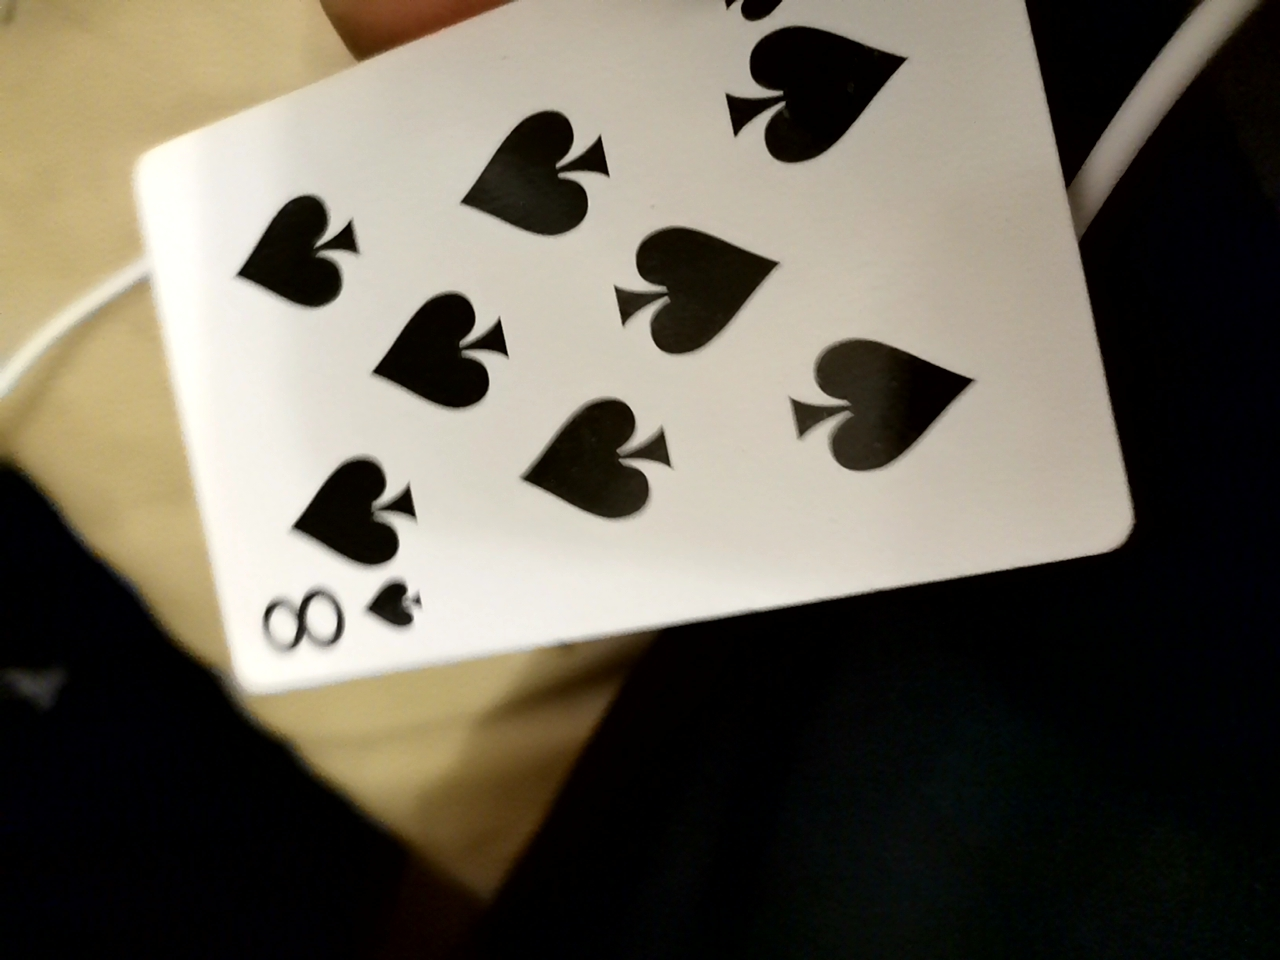ht 8: (116, 11, 1125, 697)
